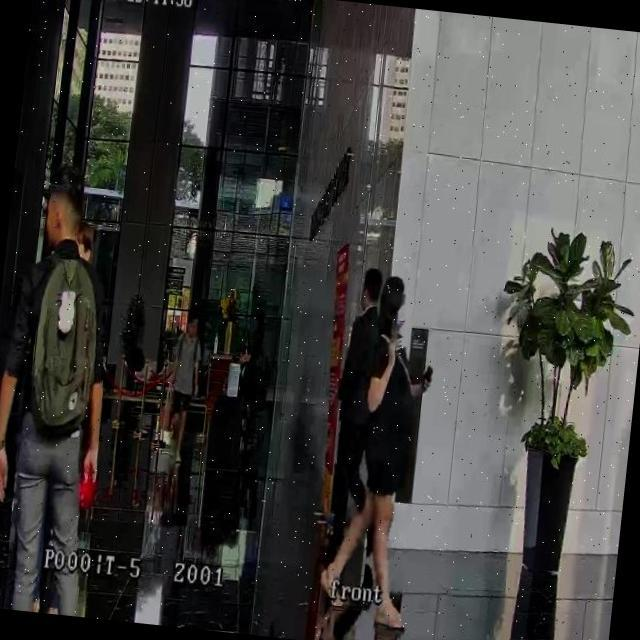person: (0, 161, 129, 617), (314, 270, 442, 632), (322, 265, 389, 553), (157, 313, 206, 461), (239, 344, 259, 402), (236, 348, 248, 392)
